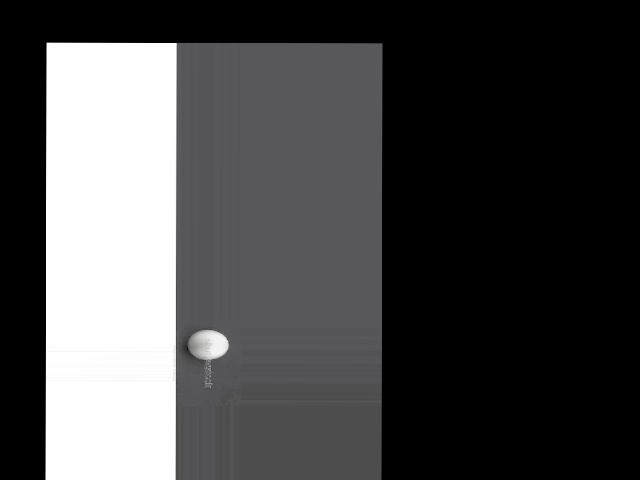egg: (187, 329, 229, 359)
